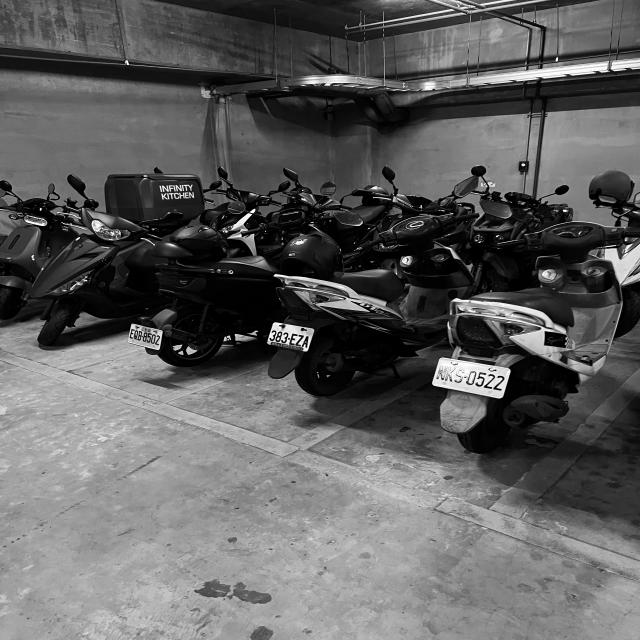-: (288, 337, 290, 340), (142, 335, 144, 337)
0: (465, 370, 478, 386), (150, 334, 157, 344), (464, 375, 467, 378)
2: (492, 374, 507, 391), (483, 374, 497, 390), (155, 335, 161, 345)
3: (269, 330, 278, 342), (280, 332, 289, 344)
5: (474, 371, 488, 388), (146, 332, 152, 343)
8: (275, 331, 283, 343), (142, 332, 148, 343)
A: (301, 336, 311, 348)
B: (137, 330, 143, 341)
E: (289, 333, 299, 346), (129, 329, 136, 339)
K: (444, 367, 456, 382)
N: (436, 365, 448, 380)
Q: (133, 330, 139, 340)
S: (453, 368, 466, 384)
Z: (295, 334, 305, 347)
plate: (432, 360, 509, 397), (267, 324, 313, 350), (127, 325, 164, 349)
